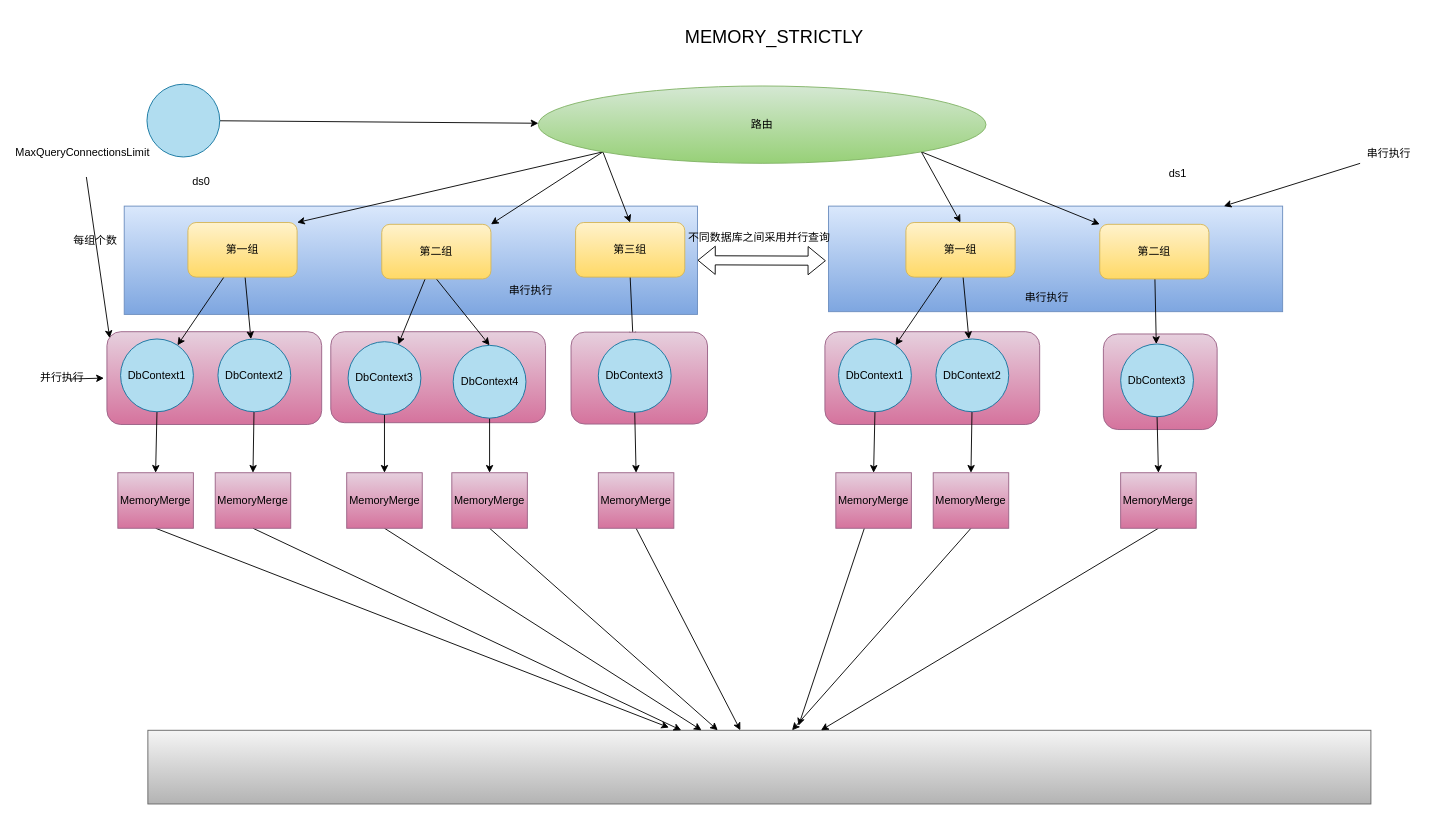
Image size: 1449x820. Some labels were removed from this diagram. Each missing label, with the centre of its shape:
DbContext: the point at 183,120
各节点内存聚合或者流式聚合: the point at 759,766
